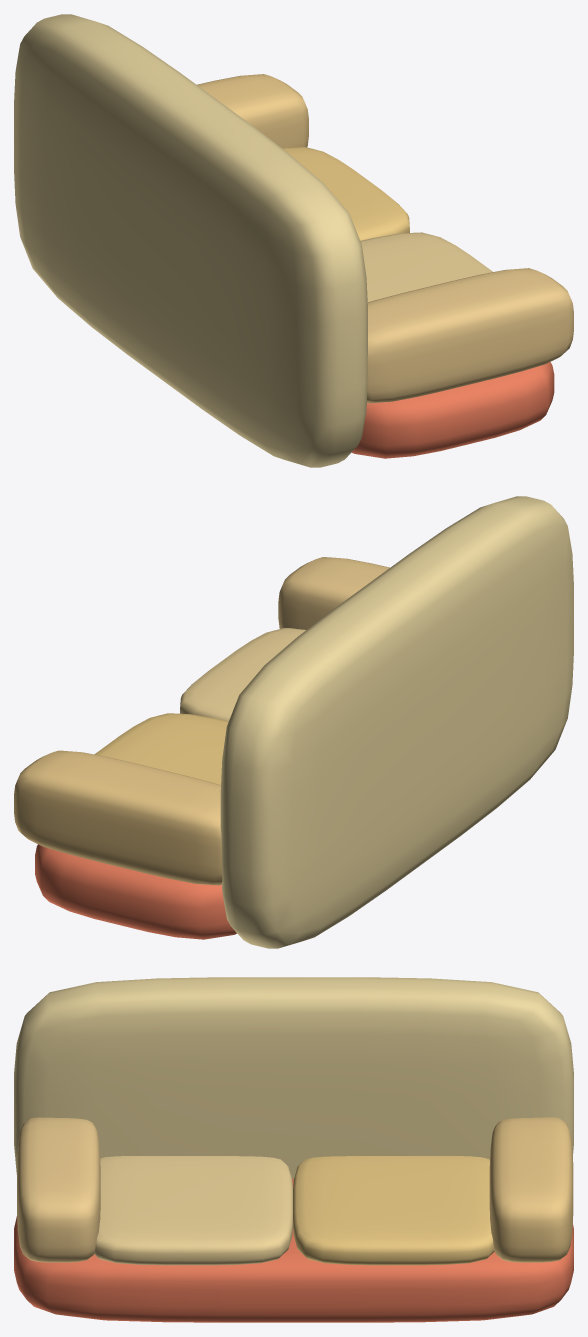
File: sofa3AR.glb
The picture shows the model from 3 angles, top to bottom: view 1: azimuth 30°, elevation 25°; view 2: azimuth 150°, elevation 25°; view 3: azimuth 270°, elevation 25°; orthographic projection. The views are drawn at different scales.
Parts seen in each view (by area): view 1: Cube.001, Cube.002, Cube, Cube.005, Cube.003, Cube.004; view 2: Cube.001, Cube.003, Cube, Cube.004, Cube.002, Cube.005; view 3: Cube.001, Cube, Cube.004, Cube.005, Cube.003, Cube.002.
Boxes of the visible parts, bbox=[...] form: Cube.001: bbox=[14, 14, 367, 467]; Cube.002: bbox=[367, 268, 573, 403]; Cube: bbox=[351, 362, 554, 458]; Cube.005: bbox=[360, 232, 492, 302]; Cube.003: bbox=[197, 74, 308, 148]; Cube.004: bbox=[282, 147, 409, 240]; Cube.001: bbox=[220, 496, 573, 948]; Cube.003: bbox=[14, 750, 222, 885]; Cube: bbox=[35, 844, 236, 939]; Cube.004: bbox=[94, 713, 228, 784]; Cube.002: bbox=[278, 557, 389, 629]; Cube.005: bbox=[180, 628, 305, 721]; Cube.001: bbox=[14, 977, 573, 1178]; Cube: bbox=[14, 1179, 573, 1322]; Cube.004: bbox=[293, 1156, 494, 1265]; Cube.005: bbox=[94, 1156, 292, 1265]; Cube.003: bbox=[489, 1117, 573, 1262]; Cube.002: bbox=[17, 1117, 100, 1262].
Bounding box in the file's own units: 5.14 × 5 × 10.16.
